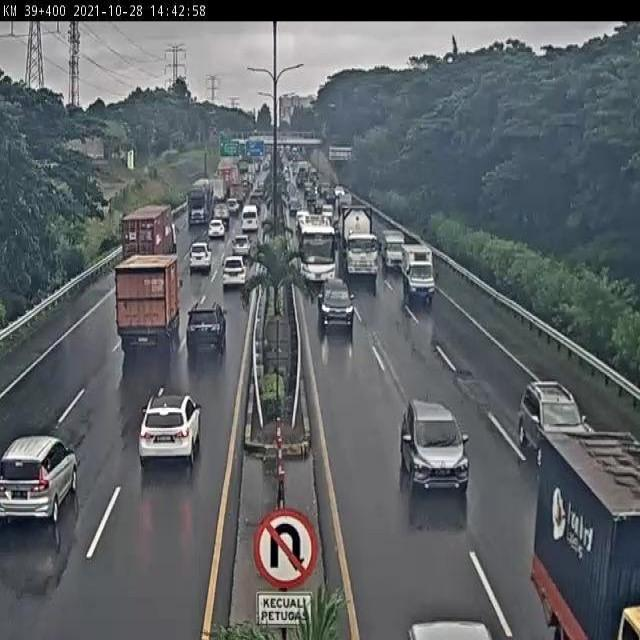big bus: (296, 213, 337, 290)
big truck: (115, 252, 183, 353), (121, 207, 178, 280), (336, 202, 379, 282)
car: (0, 434, 78, 526), (517, 381, 593, 471), (401, 398, 472, 493), (136, 394, 204, 470), (184, 300, 227, 356), (318, 279, 356, 336), (223, 255, 246, 288), (188, 241, 210, 275)
small truck: (402, 244, 437, 307), (383, 230, 406, 274)
